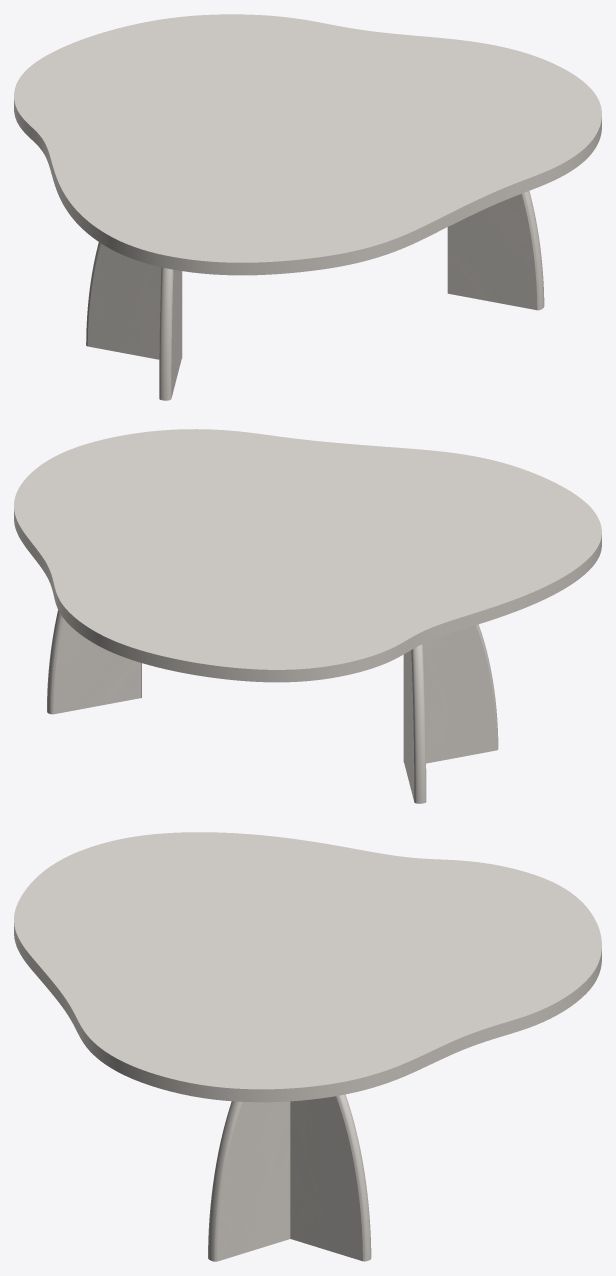
File: pearlwhite_topone_standard_newtable2.glb
The picture shows the model from 3 angles, top to bottom: view 1: azimuth 30°, elevation 25°; view 2: azimuth 150°, elevation 25°; view 3: azimuth 270°, elevation 25°; orthographic projection. The views are drawn at different scales.
Parts seen in each view (by area): view 1: standard_topone, newtable2_singleright2, newtable2_singleleft1, newtable2_singleright1; view 2: standard_topone, newtable2_singleright1, newtable2_singleleft2, newtable2_singleleft1; view 3: standard_topone, newtable2_singleright2, newtable2_singleleft2.
Boxes of the visible parts, x1,y1,x2,y2 form: standard_topone: (14,14,601,275); newtable2_singleright2: (447,191,544,310); newtable2_singleleft1: (86,242,182,359); newtable2_singleright1: (159,267,181,400); standard_topone: (14,429,601,682); newtable2_singleright1: (403,624,498,763); newtable2_singleleft2: (47,610,141,714); newtable2_singleleft1: (404,644,426,803); standard_topone: (14,832,601,1102); newtable2_singleright2: (208,1101,290,1261); newtable2_singleleft2: (290,1094,371,1261).
Size of the model in its own units: 6.83 by 2.49 by 6.6.
Materials: 1 (1 with a texture image).
